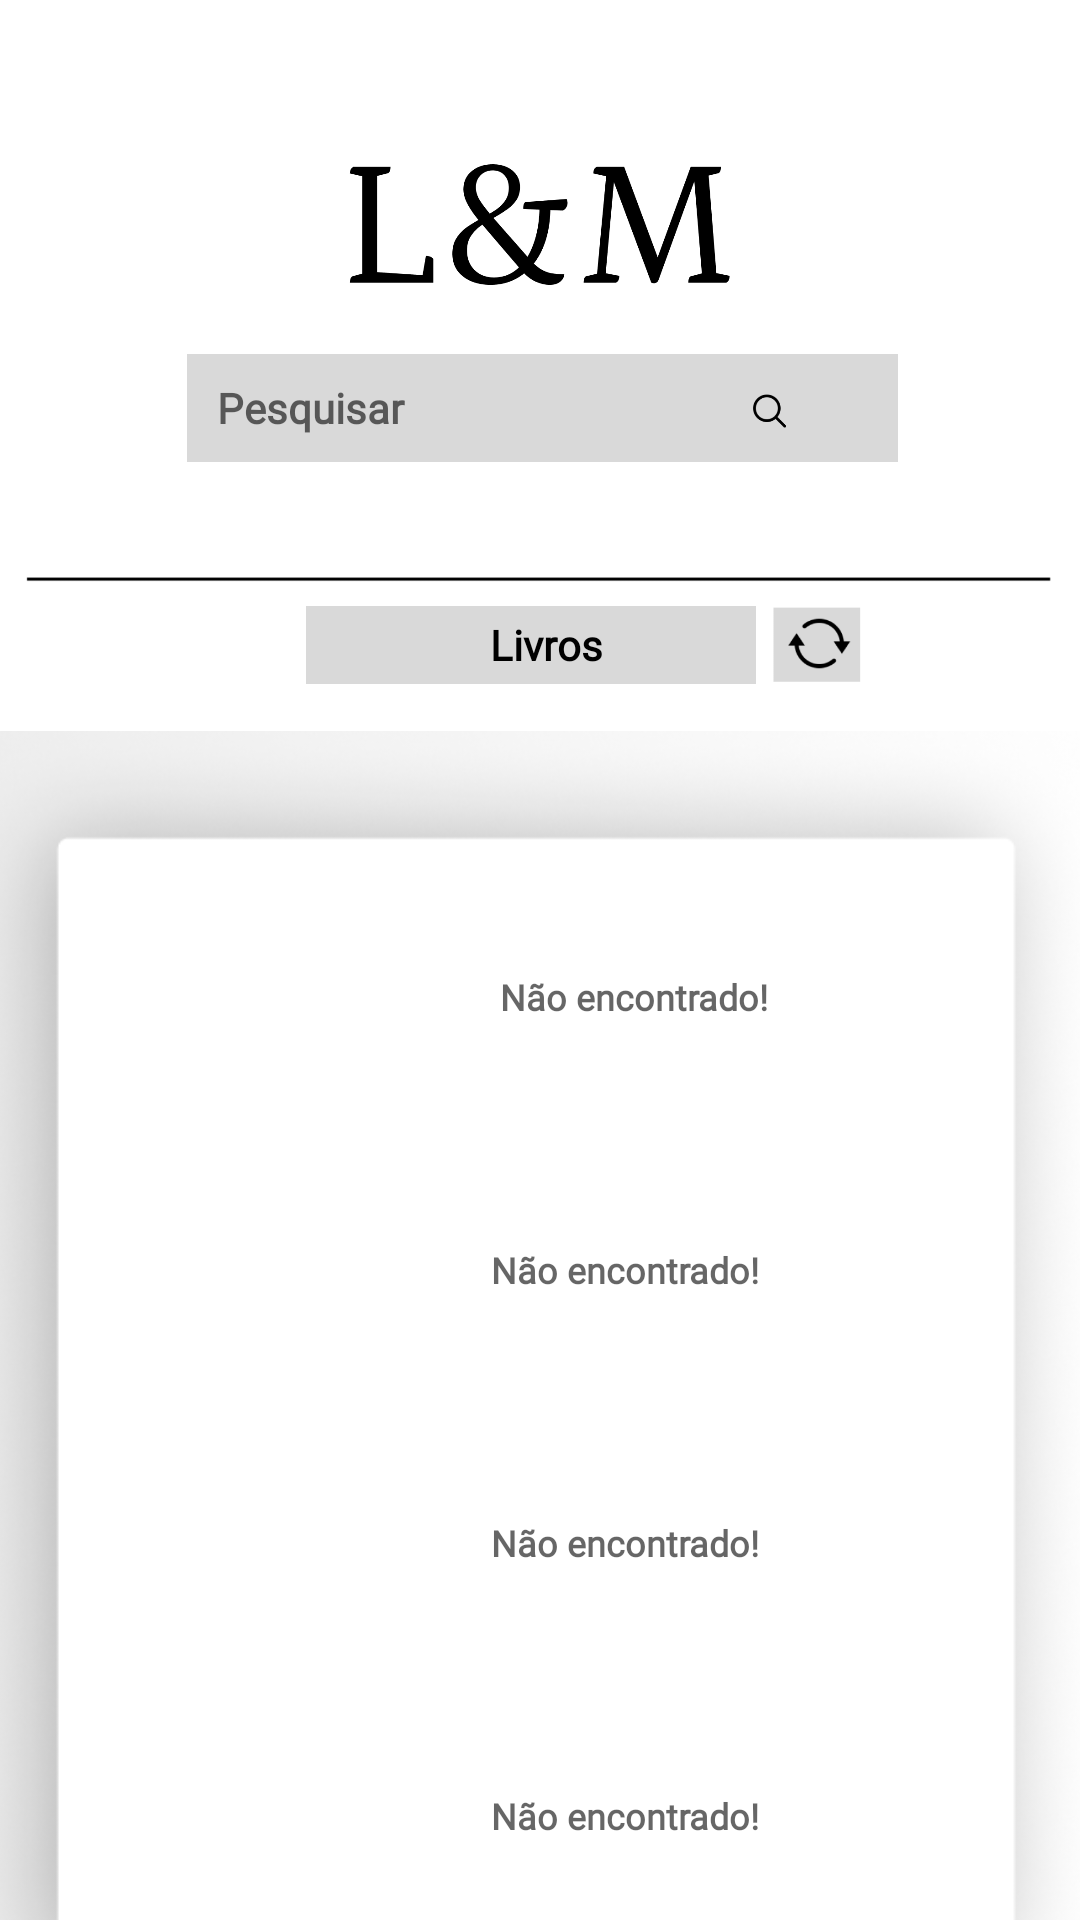

Icon bounding boxes for this 1080 x 1920 phone screenshot, format (x1, y1, x2, y2):
de pesquisa: (753, 394, 786, 428)
de refresh: (774, 608, 860, 682)
